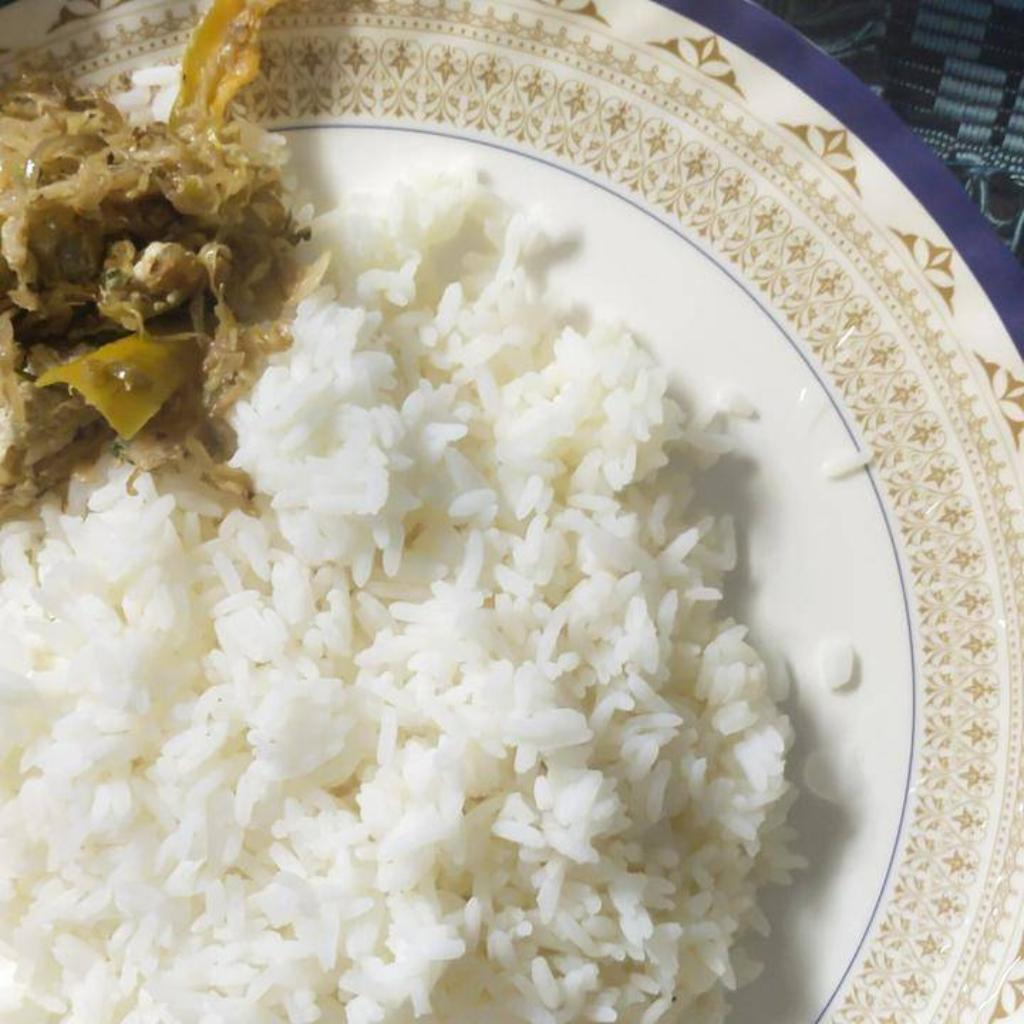achar: (0, 0, 309, 510)
rice: (3, 153, 788, 1021)
